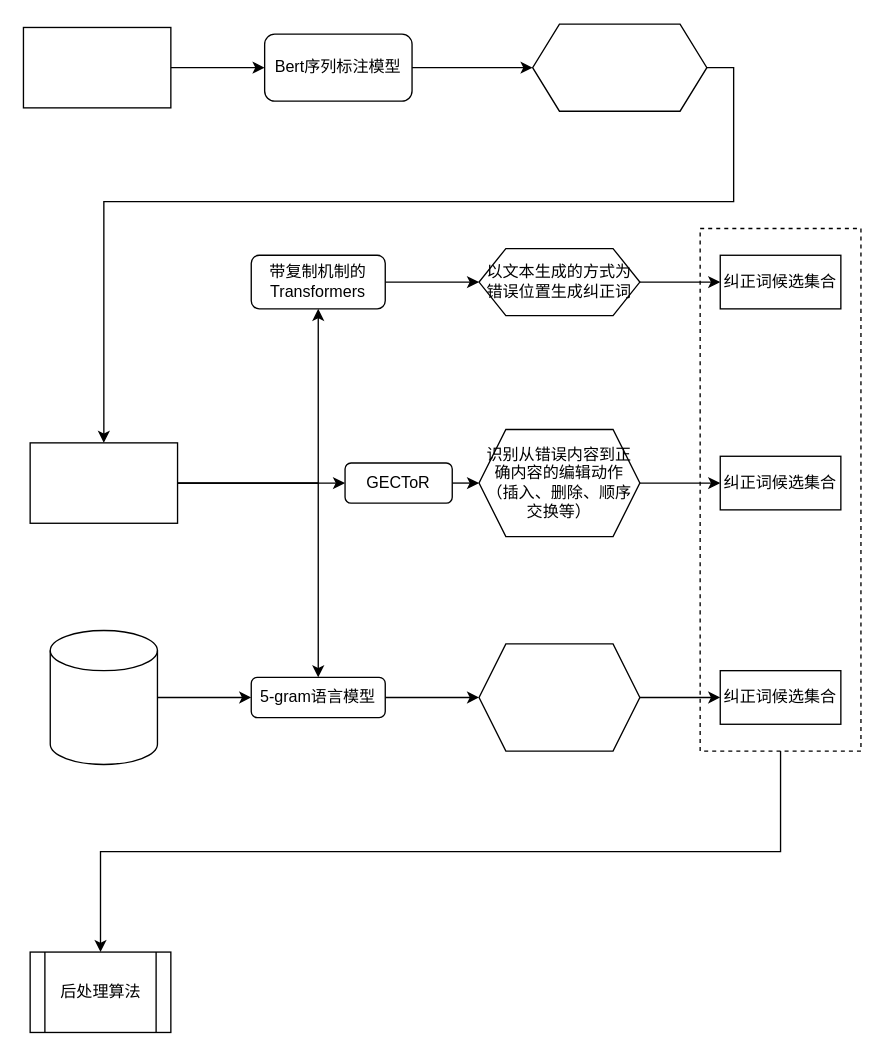
Image size: 884x1056. Some labels were removed from this diagram. Here are the shapes that lost their labels. From the top down, the centre of each, then its label:
(x=96, y=67): 原始错误文本
(x=619, y=67): 标注错误位置和类型 （多模型投票）
(x=103, y=482): 已标注错误位置和错误类型的文本
(x=103, y=696): 易混词大集合 （从训练集中抽取）
(x=559, y=697): 从易混词大集合中为每个错误位置选择k个纠正词的候选
